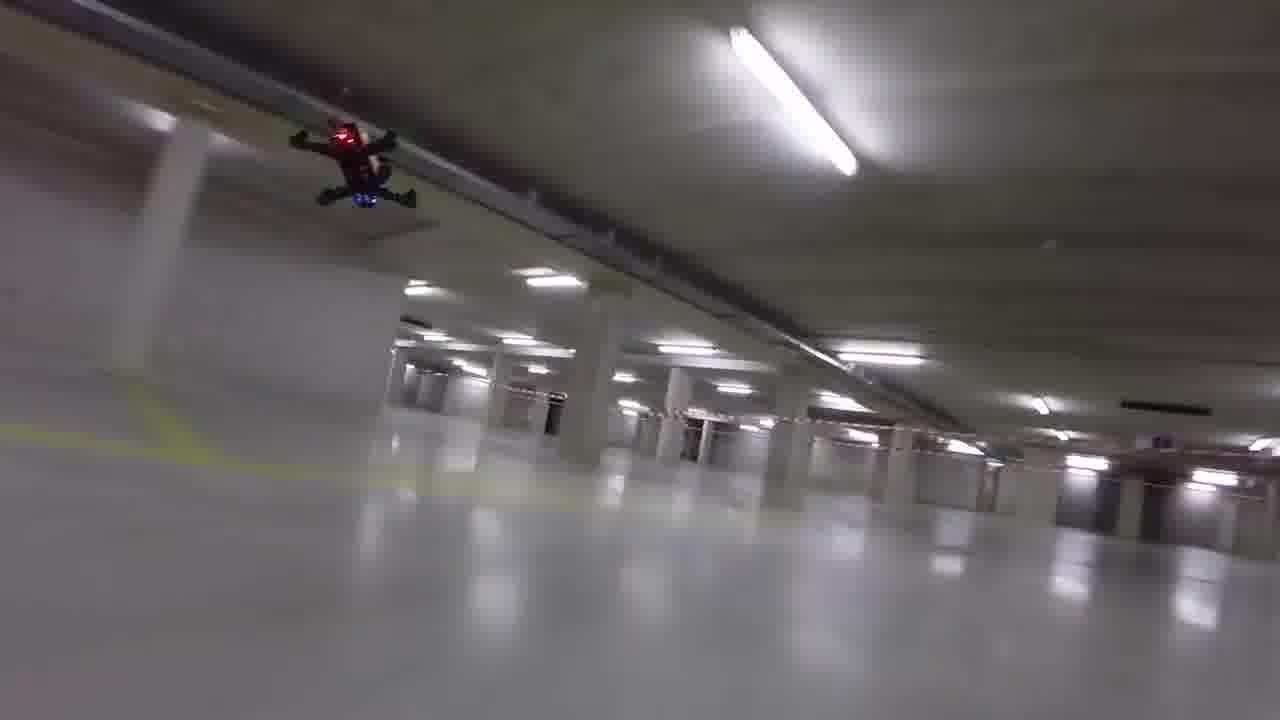drone: (280, 115, 435, 228)
